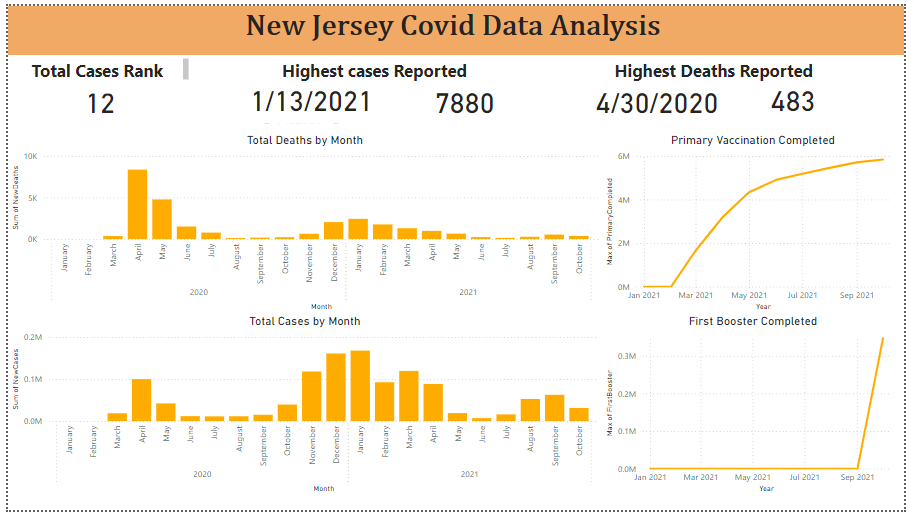

This screenshot's page, from the dashboard's own definition file:
{"tool":"powerbi","page":{"name":"New Jersey","canvas":[1280,720],"ordinal":0},"visuals":[{"type":"lineClusteredColumnComboChart","title":"Total Cases by Month","fields":{"Category":["Covid_DataWareHouse.CovidDate.Variation.Date Hierarchy.Year","Covid_DataWareHouse.CovidDate.Variation.Date Hierarchy.Month"],"Y":["Sum(Covid_DataWareHouse.NewCases)"]},"box":[0,440,848.6,260],"z":0},{"type":"lineClusteredColumnComboChart","title":"Total Deaths by Month","fields":{"Category":["Covid_DataWareHouse.CovidDate.Variation.Date Hierarchy.Year","Covid_DataWareHouse.CovidDate.Variation.Date Hierarchy.Month"],"Y":["Sum(Covid_DataWareHouse.NewDeaths)"]},"box":[0,181.4,848.6,258.6],"z":1000},{"type":"actionButton","box":[0,0,100,40],"z":2000},{"type":"card","fields":{"Values":["Covid_DataWareHouse.DateWithMaxCases"]},"box":[280,111.4,307.1,61.4],"z":3000},{"type":"card","fields":{"Values":["Covid_DataWareHouse.DateWithMaxDeaths"]},"box":[790,115.7,274.3,58.6],"z":4000},{"type":"card","fields":{"Values":["Covid_DataWareHouse.MaxCases"]},"box":[554.3,118.6,195.7,52.9],"z":5000},{"type":"card","fields":{"Values":["Covid_DataWareHouse.MaxDeaths"]},"box":[1064.3,112.9,114.3,58.6],"z":6000},{"type":"lineChart","title":"Primary Vaccination Completed","fields":{"Category":["Covid_DataWareHouse.CovidDate.Variation.Date Hierarchy.Year","Covid_DataWareHouse.CovidDate.Variation.Date Hierarchy.Month"],"Y":["Max(Covid_DataWareHouse.PrimaryCompleted)"]},"box":[848.6,181.4,431.4,258.6],"z":7000},{"type":"lineChart","title":"First Booster Completed","fields":{"Category":["Covid_DataWareHouse.CovidDate.Variation.Date Hierarchy.Year","Covid_DataWareHouse.CovidDate.Variation.Date Hierarchy.Month"],"Y":["Max(Covid_DataWareHouse.FirstBooster)"]},"box":[848.6,440,431.4,260],"z":8000},{"type":"textbox","box":[0,0,1280,70],"z":9000},{"type":"card","fields":{"Values":["Covid_DataWareHouse.Rank"]},"box":[0,120,262.9,51.4],"z":10000},{"type":"textbox","box":[0,70,262.9,41.4],"z":11000},{"type":"textbox","box":[262.9,70,521.4,42.9],"z":12000},{"type":"textbox","box":[861.4,70,318.6,42.9],"z":13000}]}

Visuals, with their boxes in screenshot pixels (x1, y1, x2, y2), scaled from the page's 1280x720 canvas onto the 914x516 screenshot:
"Total Cases by Month" lineClusteredColumnComboChart: x1=0 y1=315 x2=606 y2=502
"Total Deaths by Month" lineClusteredColumnComboChart: x1=0 y1=130 x2=606 y2=315
actionButton: x1=0 y1=0 x2=71 y2=29
card - Covid_DataWareHouse.DateWithMaxCases: x1=200 y1=80 x2=419 y2=124
card - Covid_DataWareHouse.DateWithMaxDeaths: x1=564 y1=83 x2=760 y2=125
card - Covid_DataWareHouse.MaxCases: x1=396 y1=85 x2=536 y2=123
card - Covid_DataWareHouse.MaxDeaths: x1=760 y1=81 x2=842 y2=123
"Primary Vaccination Completed" lineChart: x1=606 y1=130 x2=913 y2=315
"First Booster Completed" lineChart: x1=606 y1=315 x2=913 y2=502
textbox: x1=0 y1=0 x2=913 y2=50
card - Covid_DataWareHouse.Rank: x1=0 y1=86 x2=188 y2=123
textbox: x1=0 y1=50 x2=188 y2=80
textbox: x1=188 y1=50 x2=560 y2=81
textbox: x1=615 y1=50 x2=843 y2=81
